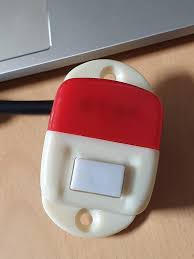bell: (39, 57, 165, 239)
